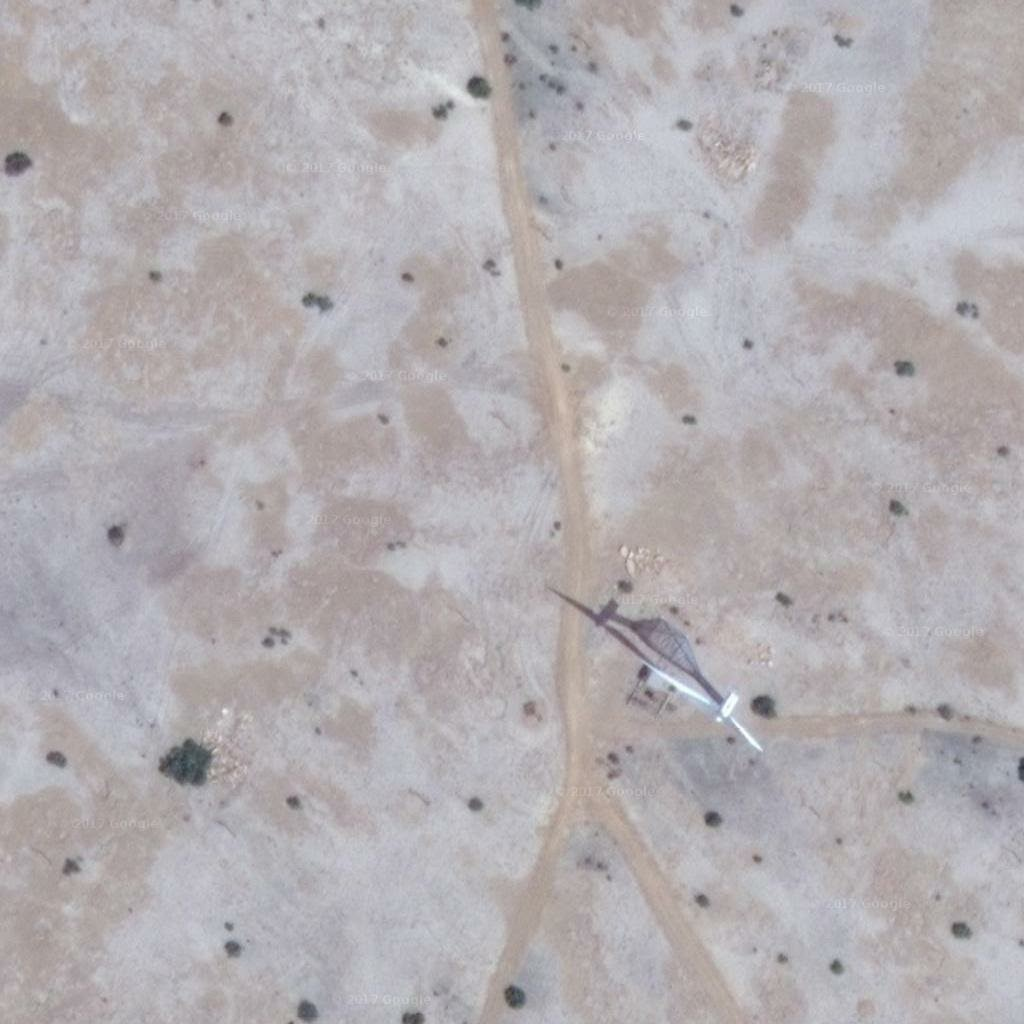Windmill: (541, 578, 750, 713)
